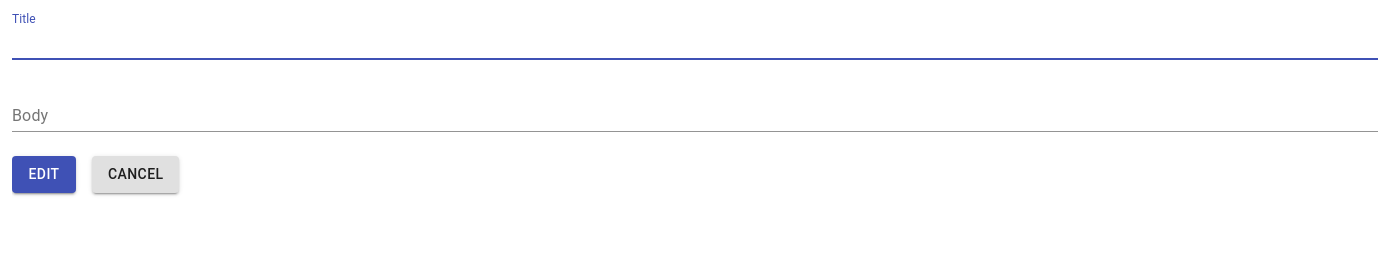
Test case: <EditPostForm /> › renders error if title empty
Step 1. Click the button "Edit" → (44, 174), box top-left (12, 156), bottom-right (76, 192)
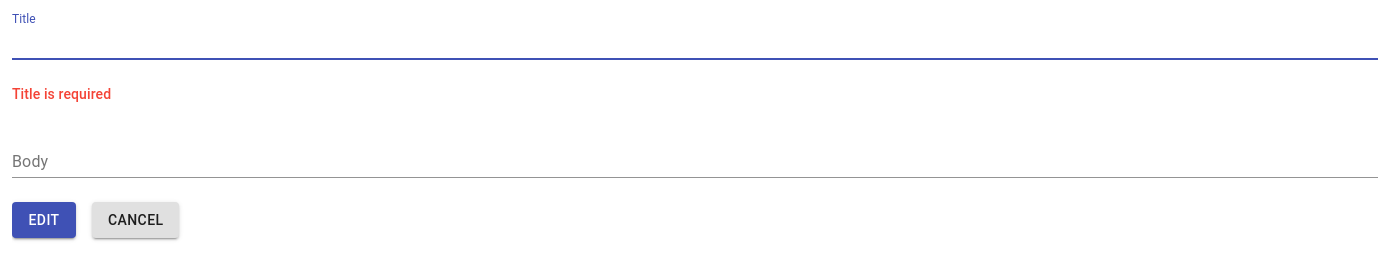
Expected: the text "Title is required" is shown, top-left (12, 86), bottom-right (111, 102)
